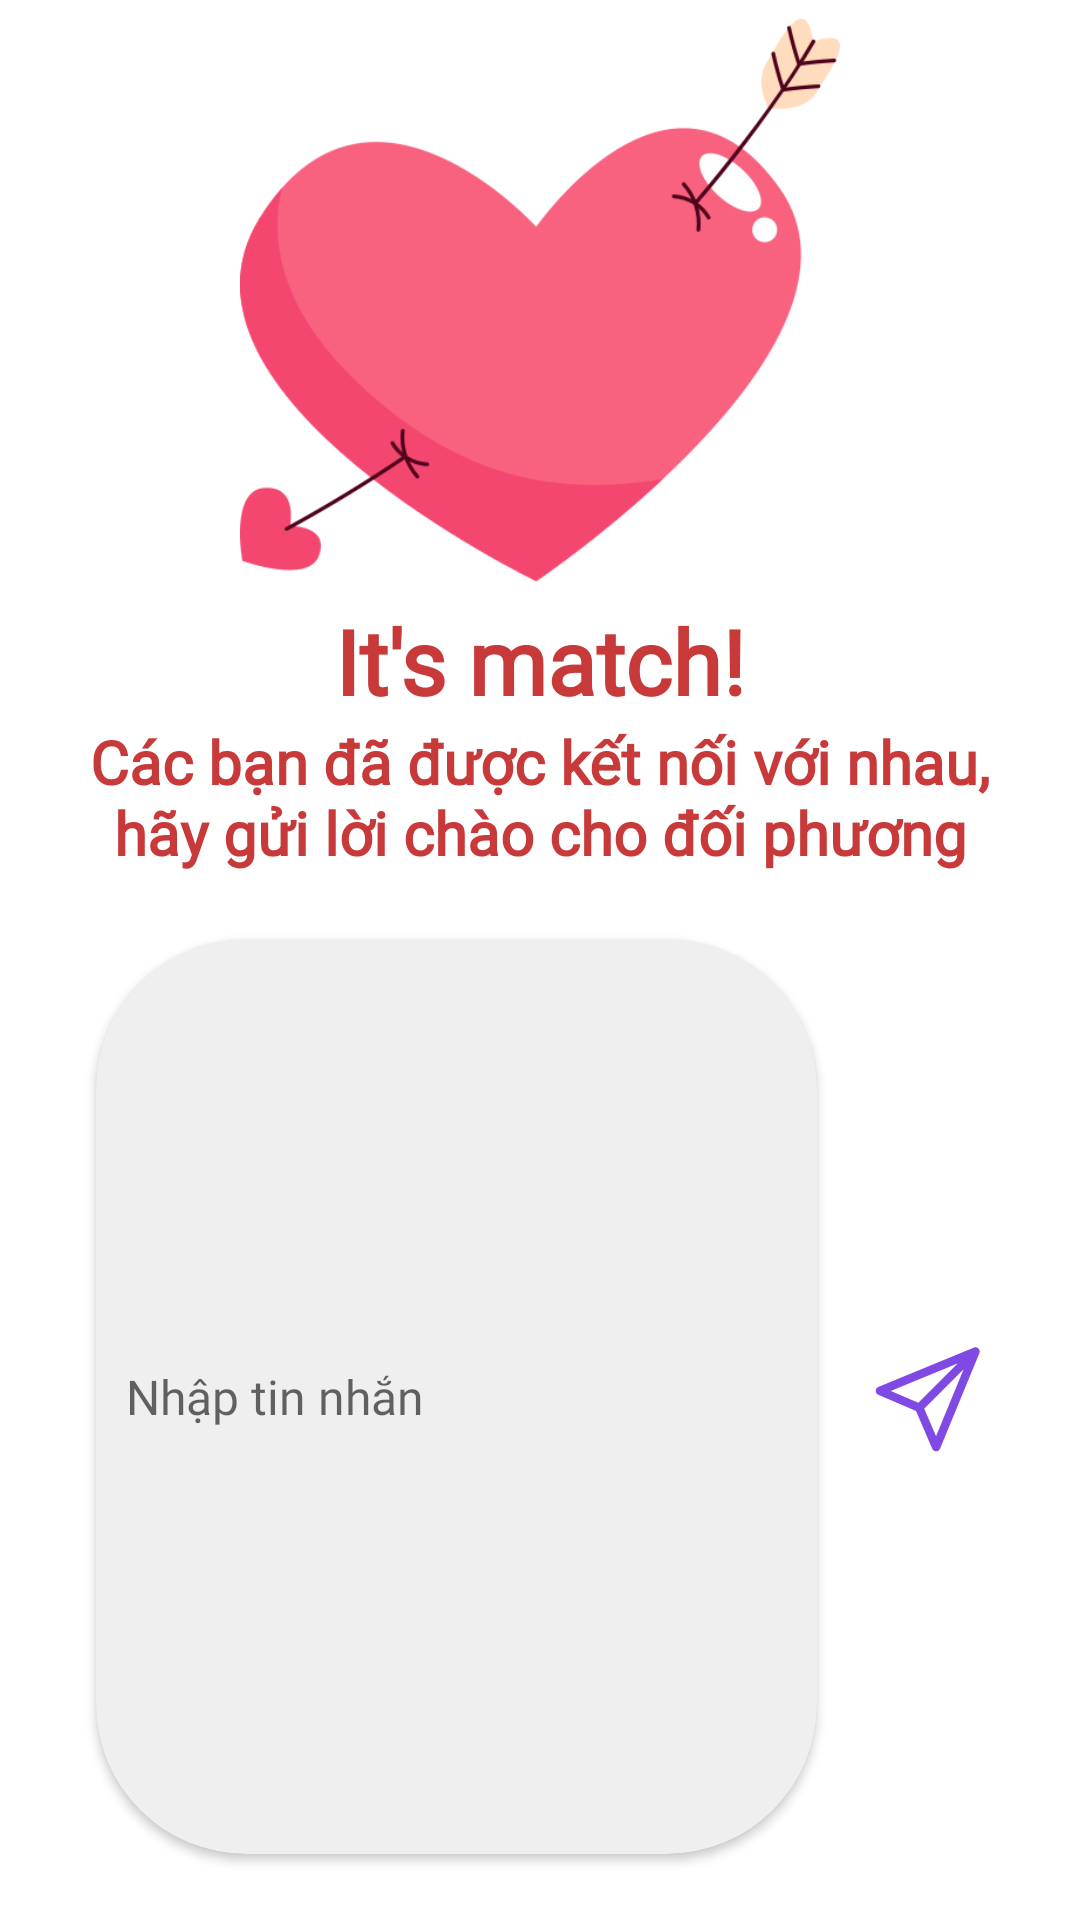

Named icons in this screenshot (1080 × 1920) and their bounding boxes, Rect(x1, y1, x2, y2):
send: Rect(875, 1347, 980, 1452)
